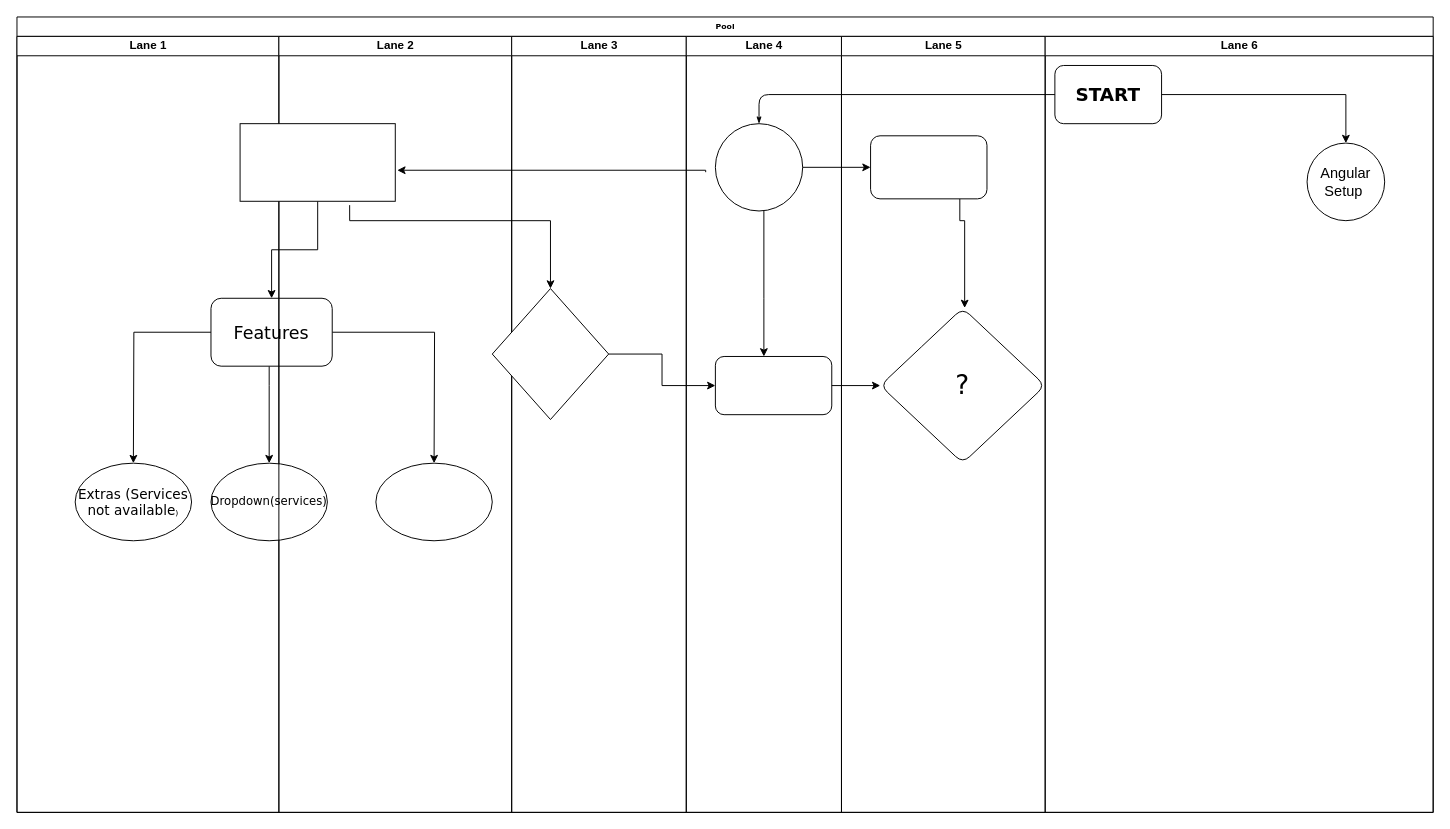
Some shapes in this 1450 by 829 pixel diagram are drawn without their labels. Here are the shapes that lost their labels. From the top down, the centre of each, then its label:
At (x=317, y=162): "Customer Model (auth.user extension)".
At (x=758, y=167): "Django Setup".
At (x=928, y=167): "Service Provider Model(auth.user)".
At (x=550, y=354): "M2M".
At (x=773, y=385): "Services Model".
At (x=433, y=501): "Ratings".
